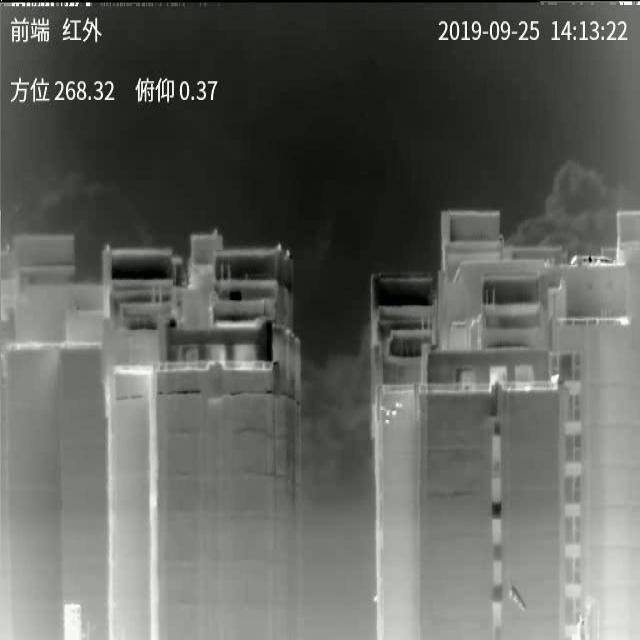drone: (380, 402, 404, 426)
